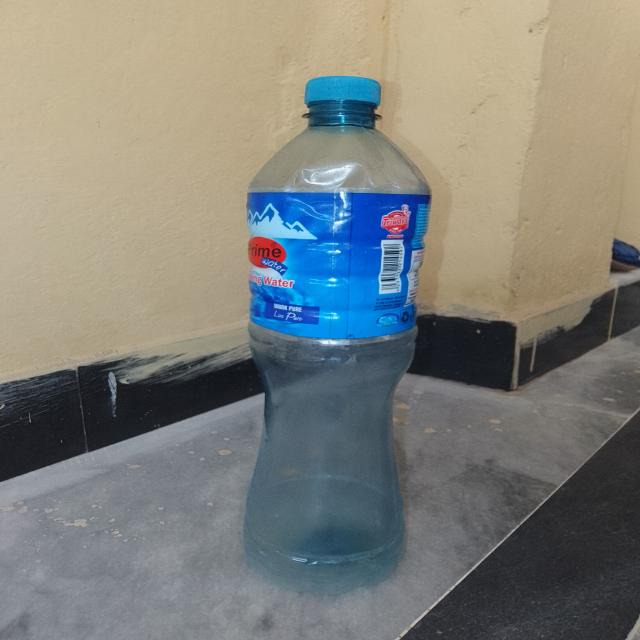bottle: (232, 71, 442, 593)
cap: (292, 71, 399, 121)
label: (246, 182, 420, 357)
